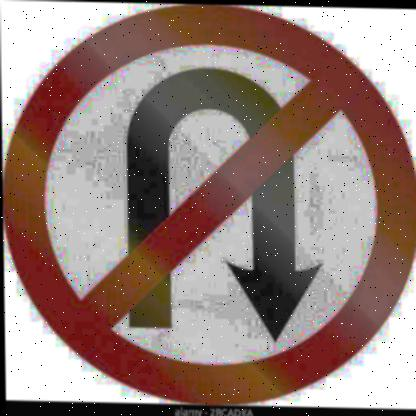No U-turn: (0, 0, 416, 408)
